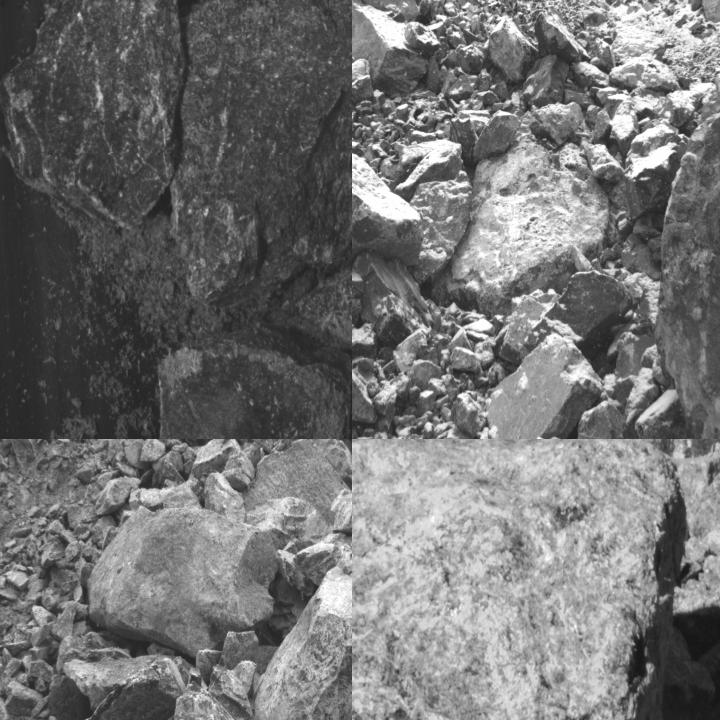stone: (352, 439, 680, 719), (170, 0, 351, 317), (0, 0, 184, 236), (436, 144, 608, 308), (87, 505, 277, 653), (655, 0, 719, 438), (158, 324, 351, 438), (257, 539, 351, 719), (284, 174, 351, 369), (482, 337, 605, 438), (352, 156, 428, 284), (527, 272, 640, 350), (353, 255, 443, 341), (174, 662, 301, 719), (352, 5, 427, 99), (625, 120, 694, 217), (416, 168, 472, 284), (83, 658, 187, 719), (393, 138, 465, 197), (488, 16, 537, 83), (534, 7, 591, 62), (611, 54, 682, 92), (472, 114, 522, 165), (524, 54, 570, 109), (534, 102, 583, 151), (352, 341, 378, 424), (204, 470, 245, 522), (574, 403, 632, 438), (656, 90, 698, 138), (190, 439, 242, 477), (94, 475, 142, 516), (452, 392, 485, 436), (586, 144, 625, 180), (613, 98, 638, 154), (403, 22, 441, 58), (7, 681, 42, 717), (359, 0, 421, 20), (332, 484, 351, 544), (352, 57, 376, 100), (50, 603, 77, 639), (448, 346, 481, 371), (593, 107, 611, 145), (137, 439, 166, 462)
